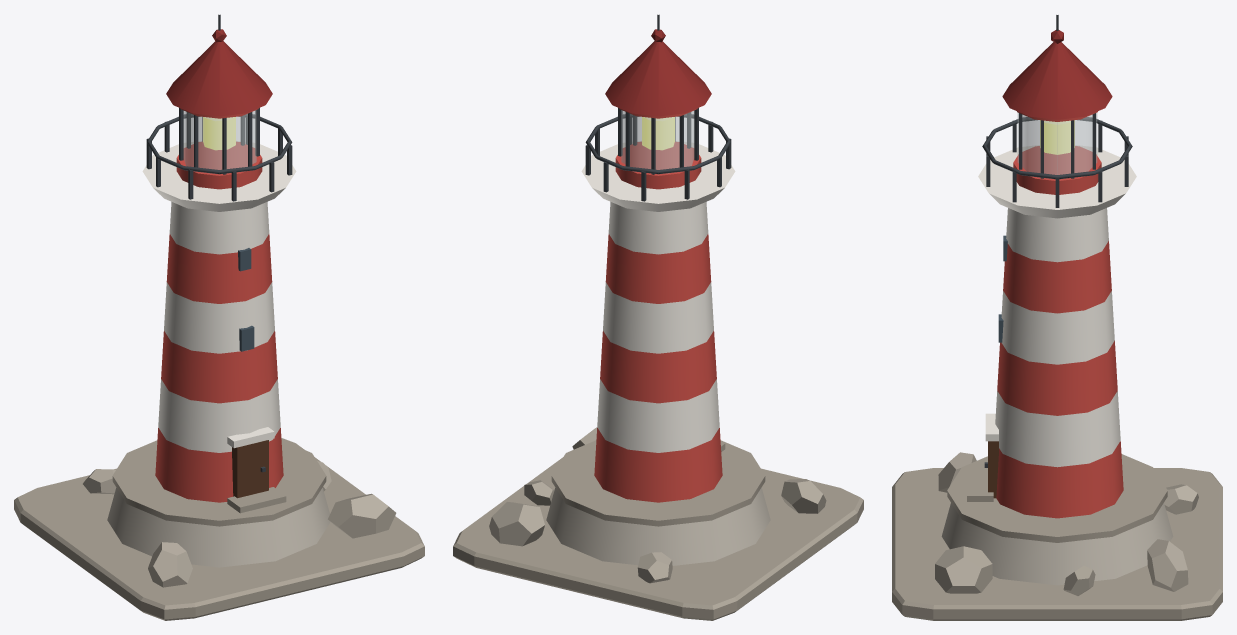
File: lighthouse.glb
3 renders of one model, left to right at view 1: azimuth 30°, elevation 25°; view 2: azimuth 150°, elevation 25°; view 3: azimuth 270°, elevation 25°, orthographic. The views are drawn at different scales.
Parts seen in each view (by area): view 1: base_slab, base_drum, base_drum_cap, tower_stripe_3, tower_stripe_2, tower_stripe_4, roof_cone, tower_stripe_5, tower_stripe_1, gallery_floor, tower_stripe_6, lantern_glass (+9 smaller); view 2: base_slab, base_drum, base_drum_cap, tower_stripe_1, tower_stripe_2, tower_stripe_3, tower_stripe_4, tower_stripe_5, roof_cone, gallery_floor, tower_stripe_6, lantern_glass (+7 smaller); view 3: base_slab, base_drum, base_drum_cap, tower_stripe_1, tower_stripe_2, tower_stripe_3, tower_stripe_4, tower_stripe_5, roof_cone, gallery_floor, tower_stripe_6, lantern_glass (+10 smaller).
Part boxes in pixels (x1,y1,x2,y2): base_slab: (14,438,424,620); base_drum: (107,488,330,567); base_drum_cap: (112,440,326,526); tower_stripe_3: (161,331,277,403); tower_stripe_2: (158,379,280,452); tower_stripe_4: (164,282,274,353); roof_cone: (166,41,272,116); tower_stripe_5: (166,234,272,303); tower_stripe_1: (155,428,283,502); gallery_floor: (142,141,296,211); tower_stripe_6: (169,202,269,254); lantern_glass: (183,110,256,173); base_slab: (453,457,863,620); base_drum: (546,488,770,565); base_drum_cap: (551,440,765,526); tower_stripe_1: (594,428,722,502); tower_stripe_2: (597,379,719,452); tower_stripe_3: (600,331,716,403); tower_stripe_4: (603,282,713,353); tower_stripe_5: (605,234,711,303); roof_cone: (605,41,711,116); gallery_floor: (581,141,735,211); tower_stripe_6: (608,202,708,254); lantern_glass: (621,110,694,173); base_slab: (892,468,1222,620); base_drum: (941,503,1173,585); base_drum_cap: (947,454,1167,542); tower_stripe_1: (996,441,1123,518); tower_stripe_2: (995,391,1120,467); tower_stripe_3: (997,341,1117,415); tower_stripe_4: (1001,291,1114,364); tower_stripe_5: (1003,241,1111,313); roof_cone: (1002,42,1112,119); gallery_floor: (978,145,1136,218); tower_stripe_6: (1006,208,1108,262); lantern_glass: (1017,113,1097,174).
Size of the model in its own units: 3 by 5.38 by 3.
